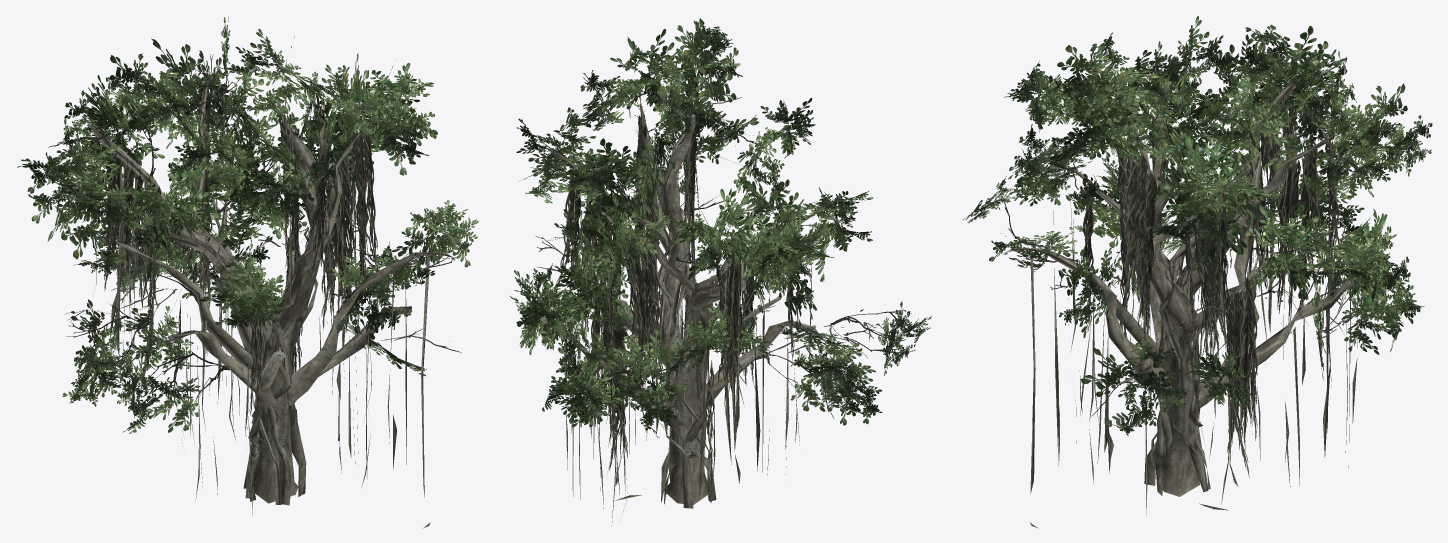
Rendered from banyan_far.glb.
3 renders of one model, left to right at view 1: azimuth 30°, elevation 25°; view 2: azimuth 150°, elevation 25°; view 3: azimuth 270°, elevation 25°, orthographic. The views are drawn at different scales.
Parts seen in each view (by area): view 1: ChineseBanyan_Med; view 2: ChineseBanyan_Med; view 3: ChineseBanyan_Med.
Boxes of the visible parts, <box> form: ChineseBanyan_Med: <box>17,17,478,528</box>; ChineseBanyan_Med: <box>510,18,931,522</box>; ChineseBanyan_Med: <box>963,16,1432,528</box>.
Size of the model in its own units: 18.08 by 19.87 by 18.17.
7 materials, 7 textured.
